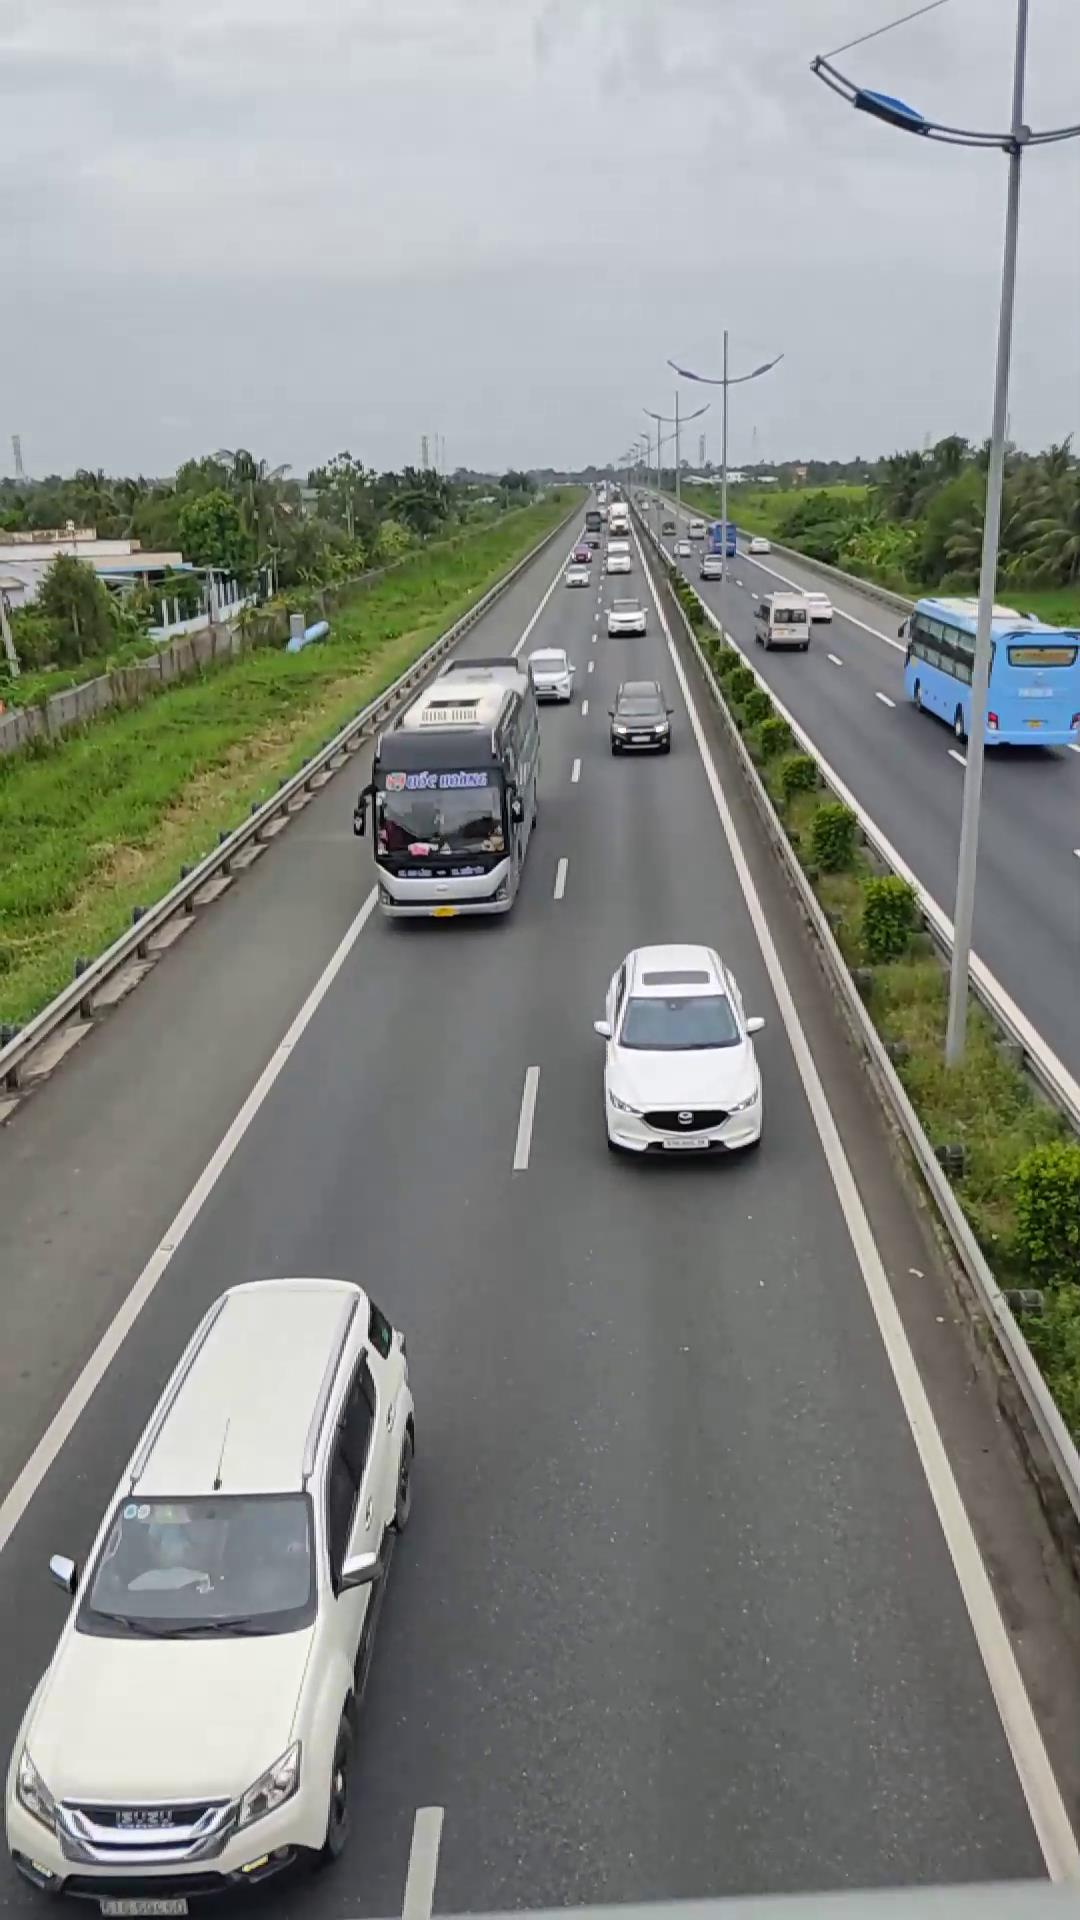bus: (358, 648, 542, 929)
car: (4, 1273, 421, 1912), (592, 942, 767, 1161), (605, 679, 675, 754)
